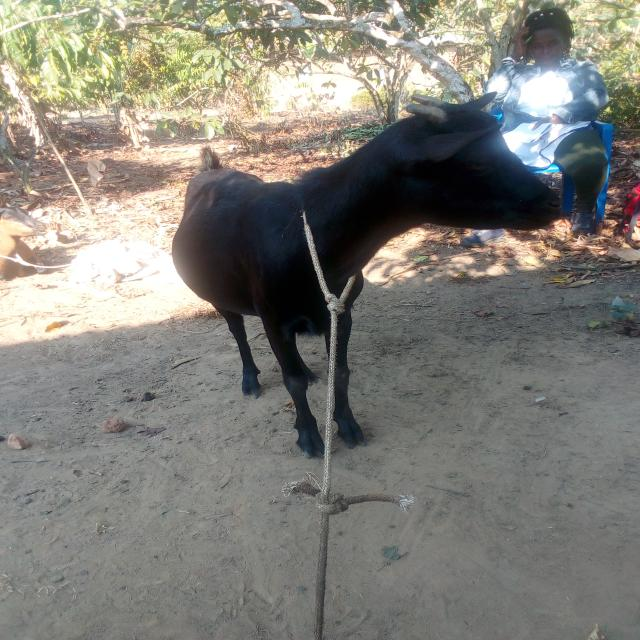goat: (127, 71, 574, 477)
